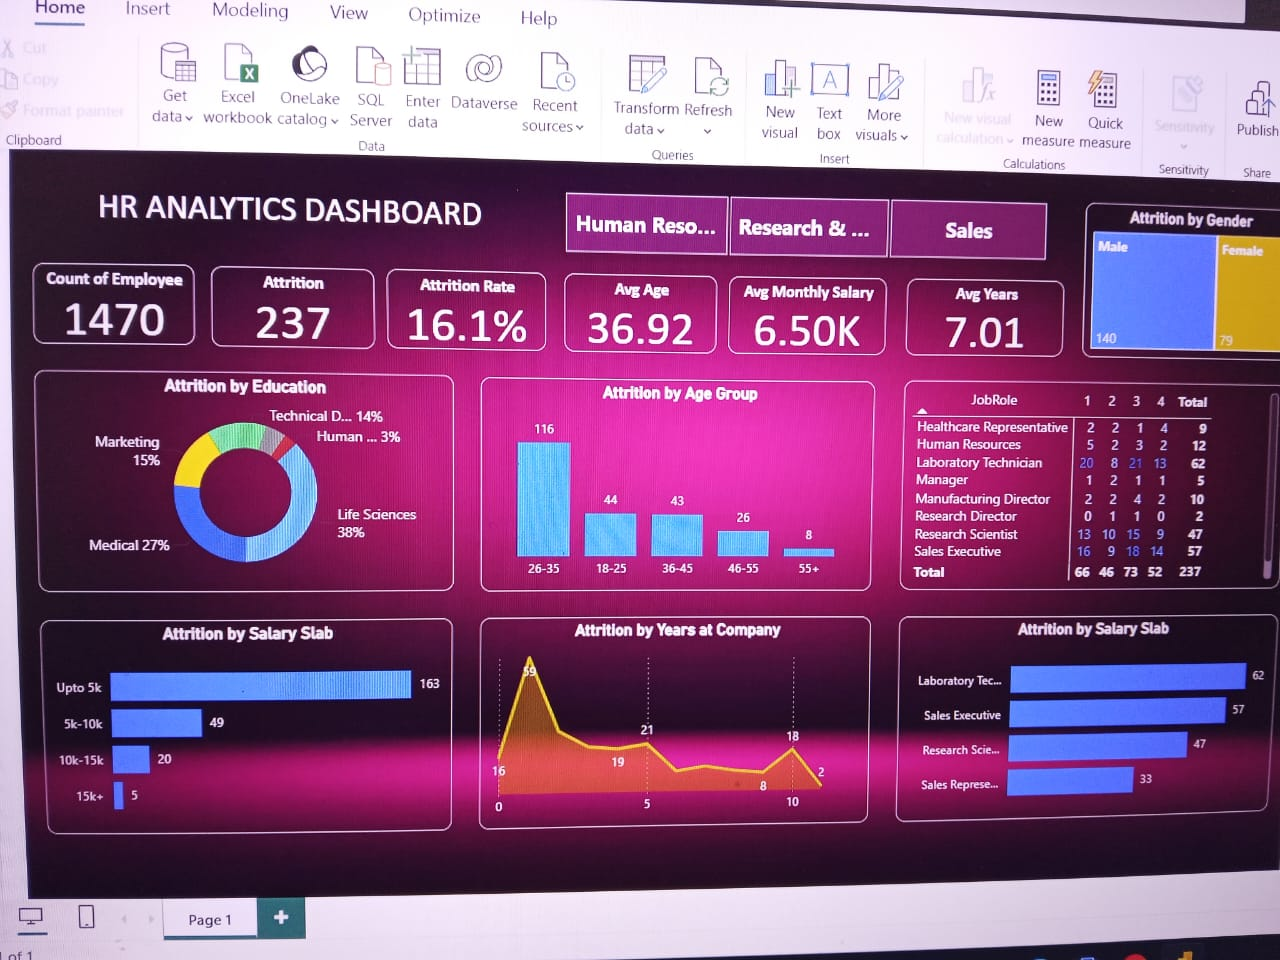

This screenshot's page, from the dashboard's own definition file:
{"tool":"powerbi","page":{"name":"Page 1","canvas":[1280,720],"ordinal":0},"visuals":[{"type":"card","title":"Count of Employee","fields":{"Values":["CountNonNull(HR_Analytics.EmpID)"]},"box":[22,105.7,149.6,75.5],"z":0},{"type":"card","title":"Attrition","fields":{"Values":["select","Sum(HR_Analytics.AttritionCount)"]},"box":[186.6,107,150.9,75.5],"z":1000},{"type":"card","title":"Avg Age","fields":{"Values":["Avg(HR_Analytics.Age)"]},"box":[518.7,105.7,149.6,75.5],"z":2000},{"type":"card","title":"Attrition Rate","fields":{"Values":["HR_Analytics.AttritionRate"]},"box":[349.9,105.7,150.9,75.5],"z":3000},{"type":"card","title":"Avg Monthly Salary","fields":{"Values":["Avg(HR_Analytics.MonthlyIncome)"]},"box":[680.6,105.7,156.4,75.5],"z":4000},{"type":"card","title":"Avg Years","fields":{"Values":["Avg(HR_Analytics.YearsAtCompany)"]},"box":[857.6,105.7,159.2,75.5],"z":5000},{"type":"donutChart","title":"Attrition by Education","fields":{"Category":["HR_Analytics.EducationField"],"Y":["Sum(HR_Analytics.AttritionCount)"]},"box":[22,205.8,390,210],"z":6000},{"type":"columnChart","title":"Attrition by Age Group","fields":{"Category":["HR_Analytics.AgeGroup"],"Y":["Sum(HR_Analytics.AttritionCount)"]},"box":[437.7,207.2,390,210],"z":7000},{"type":"pivotTable","title":"Attrition by Age Group","fields":{"Values":["Sum(HR_Analytics.AttritionCount)"],"Rows":["HR_Analytics.JobRole"],"Columns":["HR_Analytics.JobSatisfaction"]},"box":[857.6,205.8,402,210],"z":8000},{"type":"barChart","title":"Attrition by Salary Slab","fields":{"Category":["HR_Analytics.SalarySlab"],"Y":["Sum(HR_Analytics.AttritionCount)"]},"box":[22.3,443.9,389.7,210.1],"z":9000},{"type":"barChart","title":"Attrition by Salary Slab","fields":{"Y":["Sum(HR_Analytics.AttritionCount)"],"Category":["HR_Analytics.JobRole"]},"box":[857.2,443.9,403.6,210.1],"z":9001},{"type":"areaChart","title":"Attrition by Years at Company","fields":{"Y":["Sum(HR_Analytics.AttritionCount)"],"Category":["HR_Analytics.YearsAtCompany"]},"box":[438.4,443.9,391,210],"z":9002},{"type":"treemap","title":"Attrition by Gender","fields":{"Values":["Sum(HR_Analytics.AttritionCount)"],"Group":["HR_Analytics.Gender"]},"box":[1037.4,27.4,223.7,153.7],"z":9003},{"type":"slicer","fields":{"Values":["HR_Analytics.Department"]},"box":[499.6,27.8,516.3,59.8],"z":9004},{"type":"textbox","box":[22,27.4,478.9,60.4],"z":9005}]}

Visuals, with their boxes on the page's 1280x720 design canvas (x1, y1, x2, y2). These are canvas units, not pixel positions in the 1280x960 screenshot, which may show the page scaled, cropped or inside an application window:
"Count of Employee" card: <box>22,106,172,181</box>
"Attrition" card: <box>187,107,338,182</box>
"Avg Age" card: <box>519,106,668,181</box>
"Attrition Rate" card: <box>350,106,501,181</box>
"Avg Monthly Salary" card: <box>681,106,837,181</box>
"Avg Years" card: <box>858,106,1017,181</box>
"Attrition by Education" donutChart: <box>22,206,412,416</box>
"Attrition by Age Group" columnChart: <box>438,207,828,417</box>
"Attrition by Age Group" pivotTable: <box>858,206,1260,416</box>
"Attrition by Salary Slab" barChart: <box>22,444,412,654</box>
"Attrition by Salary Slab" barChart: <box>857,444,1261,654</box>
"Attrition by Years at Company" areaChart: <box>438,444,829,654</box>
"Attrition by Gender" treemap: <box>1037,27,1261,181</box>
slicer - HR_Analytics.Department: <box>500,28,1016,88</box>
textbox: <box>22,27,501,88</box>
